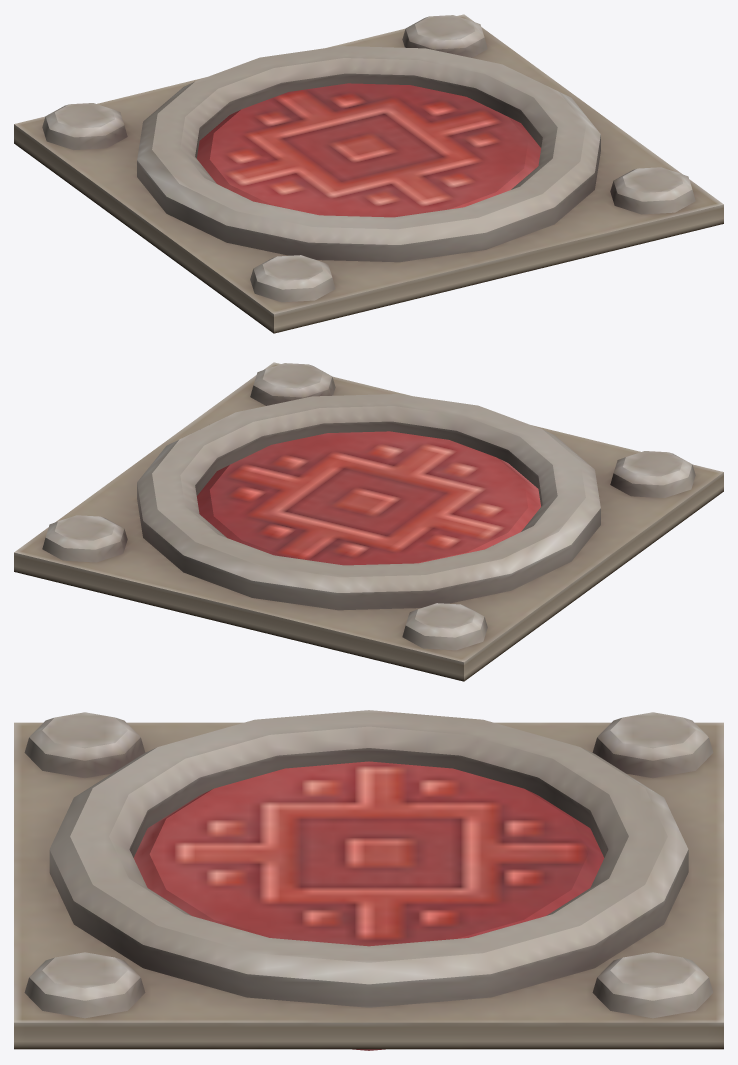
Rendered from Floor Sswitch Red.fbx.
The picture shows the model from 3 angles, top to bottom: view 1: azimuth 30°, elevation 25°; view 2: azimuth 150°, elevation 25°; view 3: azimuth 270°, elevation 25°; orthographic projection. The views are drawn at different scales.
Parts seen in each view (by area): view 1: box, switch1; view 2: box, switch1; view 3: box, switch1.
Boxes of the visible parts, box(x1,y1,x2,y2) form: box: box(14, 14, 723, 333); switch1: box(197, 83, 540, 217); box: box(14, 362, 723, 681); switch1: box(197, 431, 540, 565); box: box(14, 710, 723, 1049); switch1: box(133, 761, 604, 1050).
Size of the model in its own units: 1 by 0.1759 by 1.
